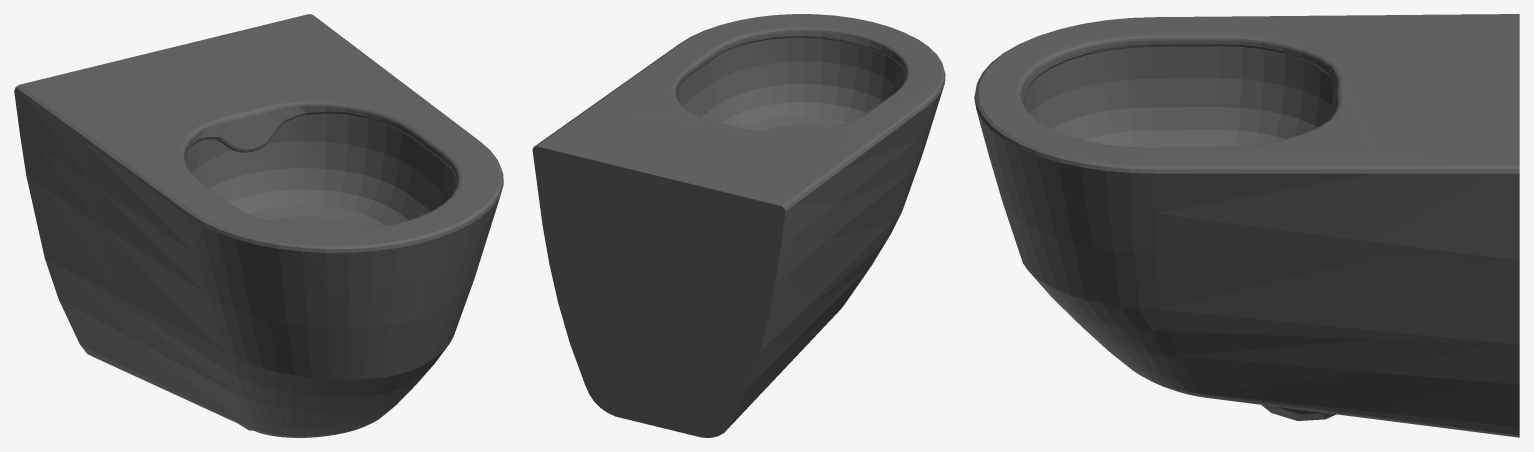
The model's file is AEC_46755.glb.
3 renders of one model, left to right at view 1: azimuth 30°, elevation 25°; view 2: azimuth 150°, elevation 25°; view 3: azimuth 270°, elevation 25°, orthographic. The views are drawn at different scales.
Parts seen in each view (by area): view 1: 0; view 2: 0; view 3: 0.
Boxes of the visible parts, bbox=[...] form: 0: bbox=[14, 14, 503, 437]; 0: bbox=[532, 14, 945, 437]; 0: bbox=[974, 14, 1519, 437].
Size of the model in its own units: 0.36 by 0.3482 by 0.53.
1 material, 1 textured.
